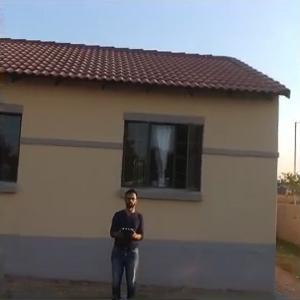follow: (103, 178, 146, 298)
